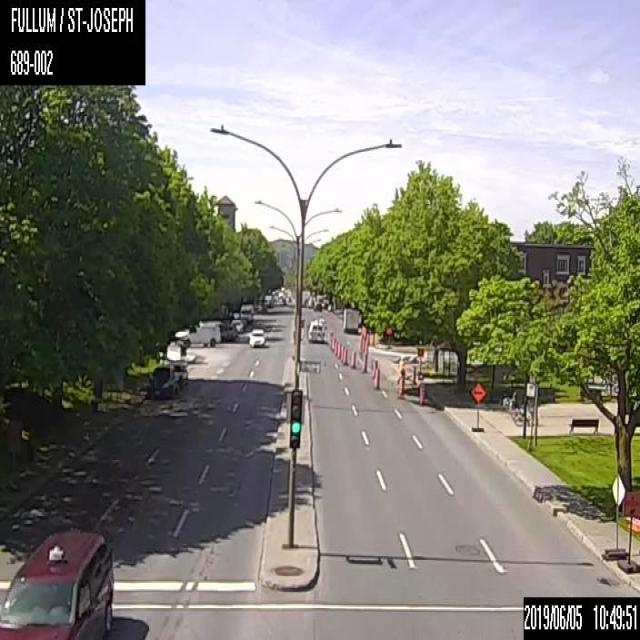construction: (602, 471, 627, 559), (616, 490, 639, 573), (470, 382, 486, 431), (371, 359, 378, 378), (399, 375, 405, 396), (386, 328, 392, 348), (350, 350, 356, 370), (418, 382, 424, 402), (410, 365, 416, 385), (342, 347, 348, 365), (374, 368, 379, 389), (362, 352, 367, 372)
vehicle: (0, 528, 115, 639), (174, 320, 219, 349), (144, 360, 174, 399), (306, 316, 324, 343), (341, 307, 359, 333), (246, 327, 266, 347), (239, 304, 254, 321), (230, 319, 242, 332), (318, 317, 326, 328), (313, 302, 321, 311)
